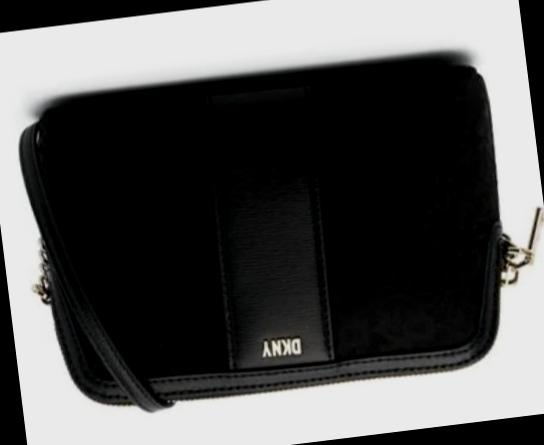DKNY: (258, 336, 302, 358)
